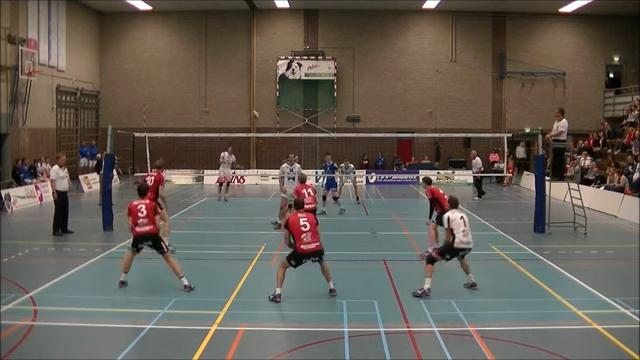ricezione: (263, 196, 340, 304)
